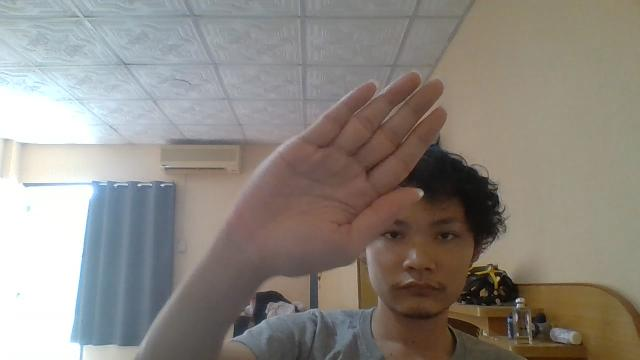Stop: (225, 63, 450, 271)
